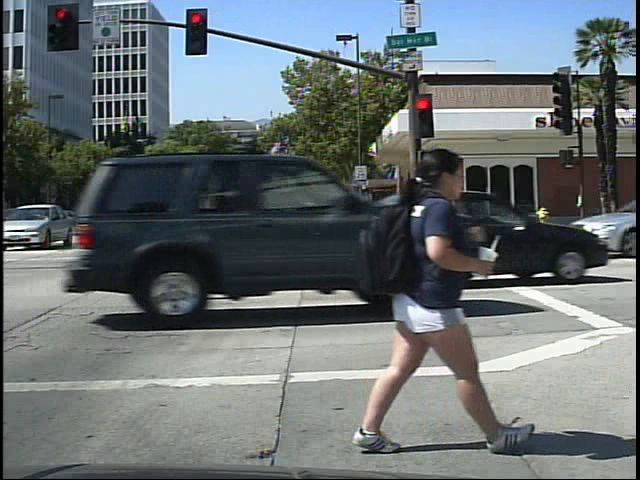person: (333, 131, 507, 459)
